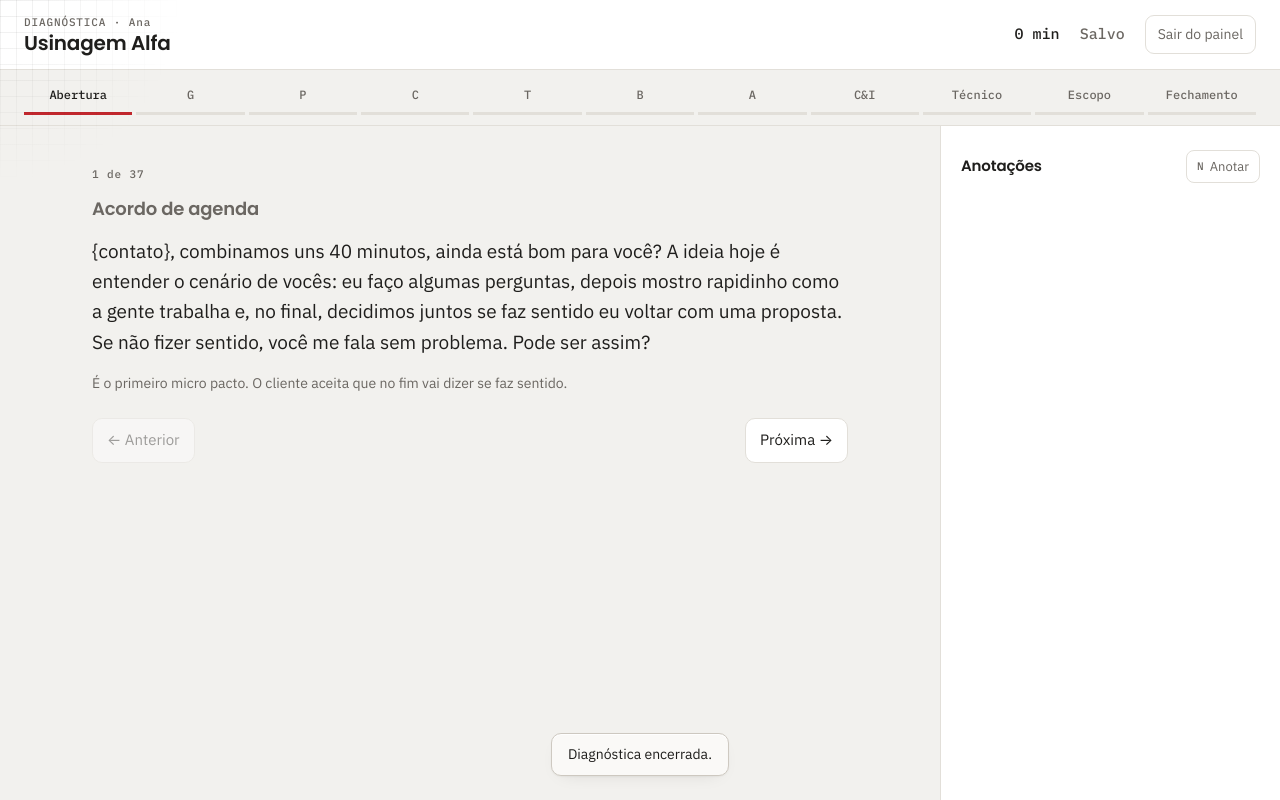
o fechamento manda nao_compareceu
Click the button with aria-label "Ir para Fechamento": [1202, 97] box [1148,80,1256,114]
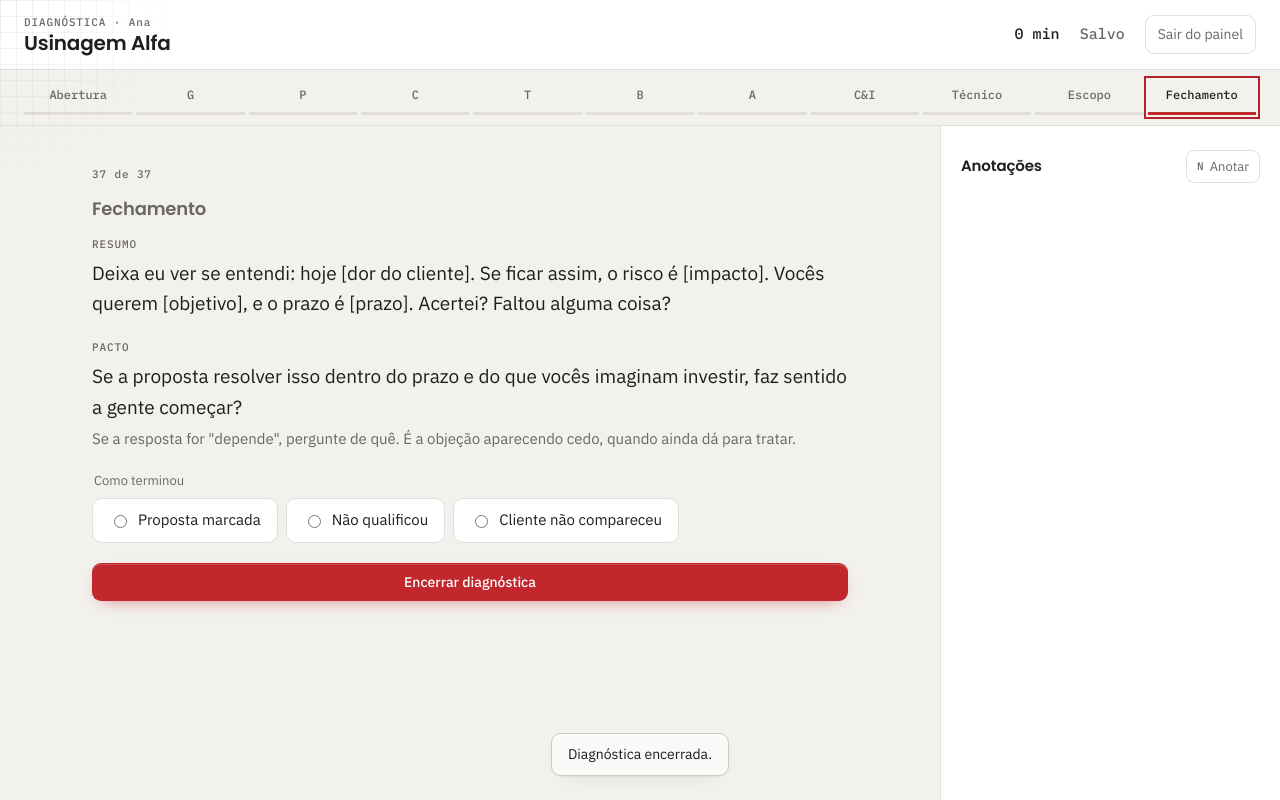
Click the radio button labelled "Cliente não compareceu": [482, 522] box [475,515,488,528]
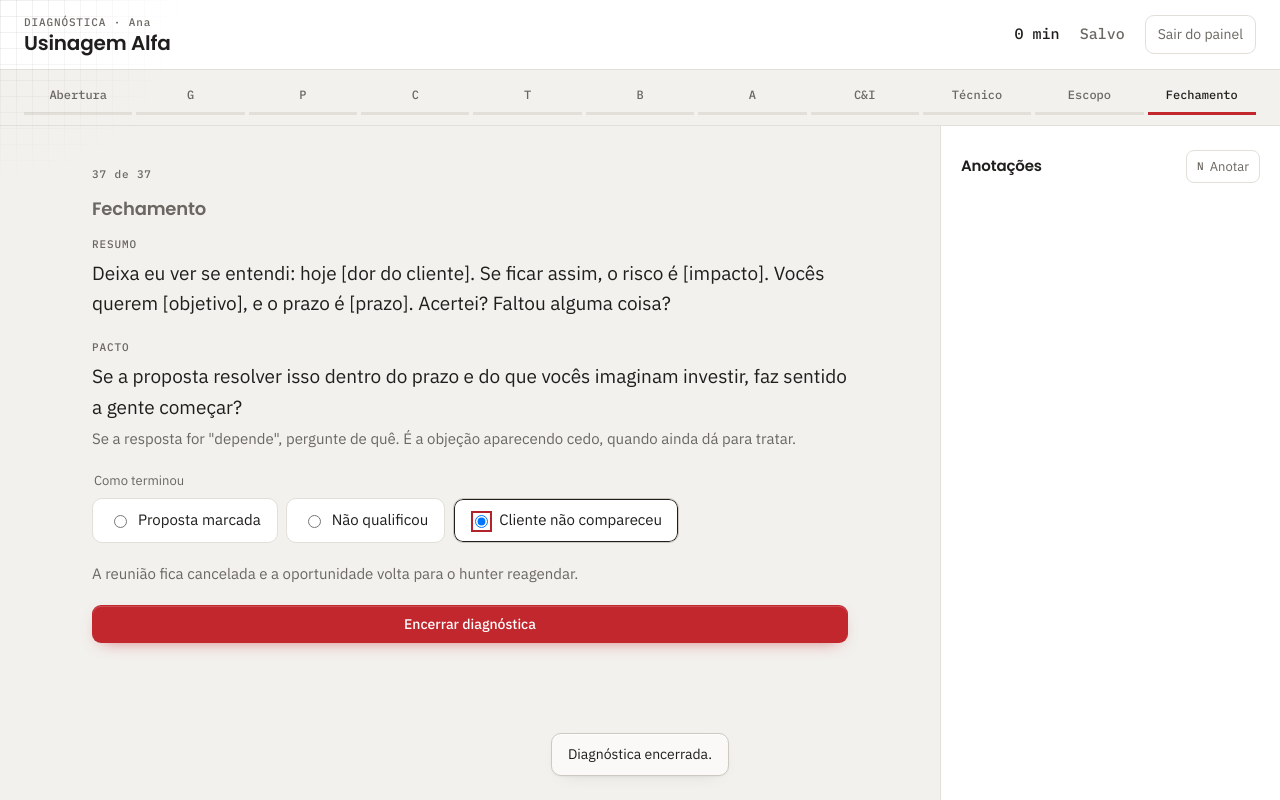
Check: the text "volta para o hunter reagendar" is shown, box [92,564,578,583]
Click the button "Encerrar diagnóstica": [470, 624] box [92,605,848,643]
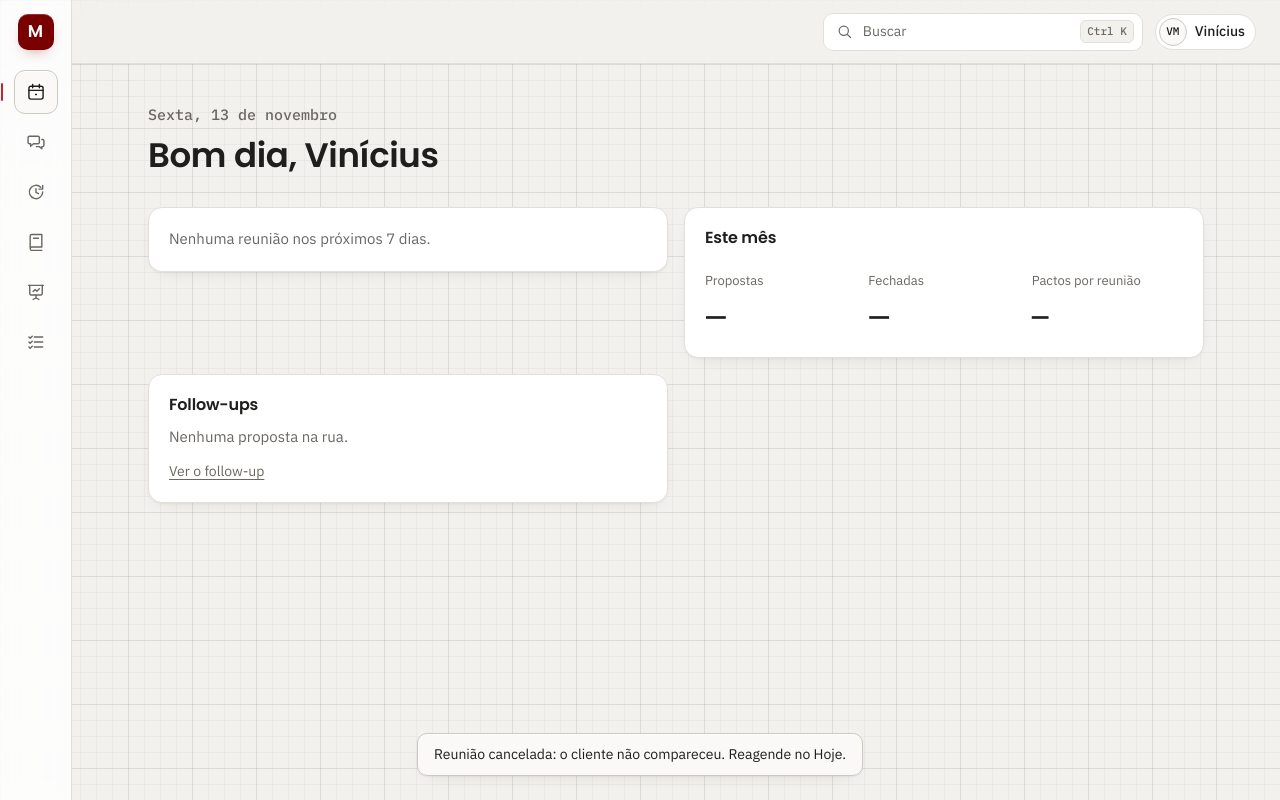
Check: the message reads "Reunião cancelada: o cliente não compareceu. Reagende no Hoje.", box [434,745,846,763]
